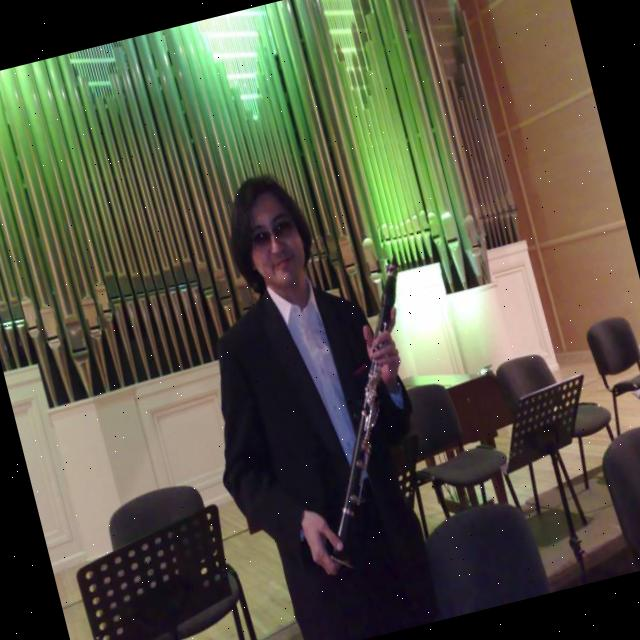clarinet: (260, 252, 471, 578)
